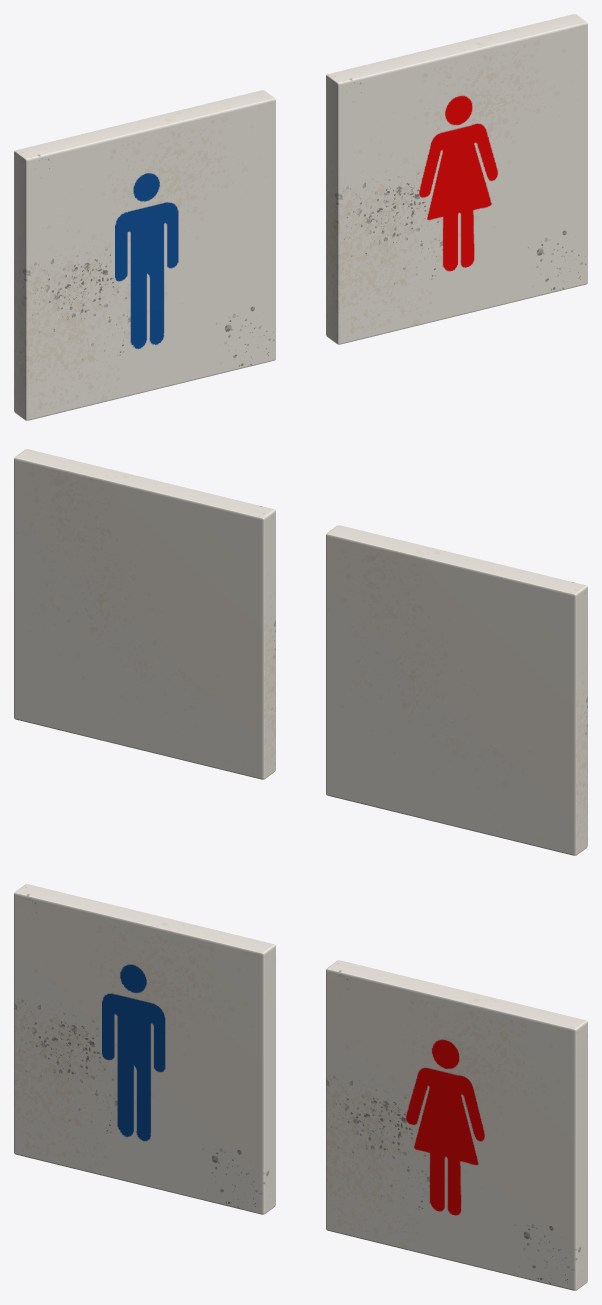
Rendered from M_BathroomSigns.fbx.
The picture shows the model from 3 angles, top to bottom: view 1: azimuth 30°, elevation 25°; view 2: azimuth 150°, elevation 25°; view 3: azimuth 330°, elevation 25°; orthographic projection.
Visible parts, largest first — view 1: bathroomsign_M_GEO, bathroomsign_W_GEO; view 2: bathroomsign_M_GEO, bathroomsign_W_GEO; view 3: bathroomsign_M_GEO, bathroomsign_W_GEO.
Part boxes in pixels (x1,y1,x2,y2): bathroomsign_M_GEO: (14,90,275,420); bathroomsign_W_GEO: (326,14,587,344); bathroomsign_M_GEO: (326,525,587,855); bathroomsign_W_GEO: (14,449,275,779); bathroomsign_M_GEO: (14,884,275,1214); bathroomsign_W_GEO: (326,960,587,1290).
Size of the model in its own units: 26.07 by 11.63 by 1.05.
2 materials, 2 textured.
